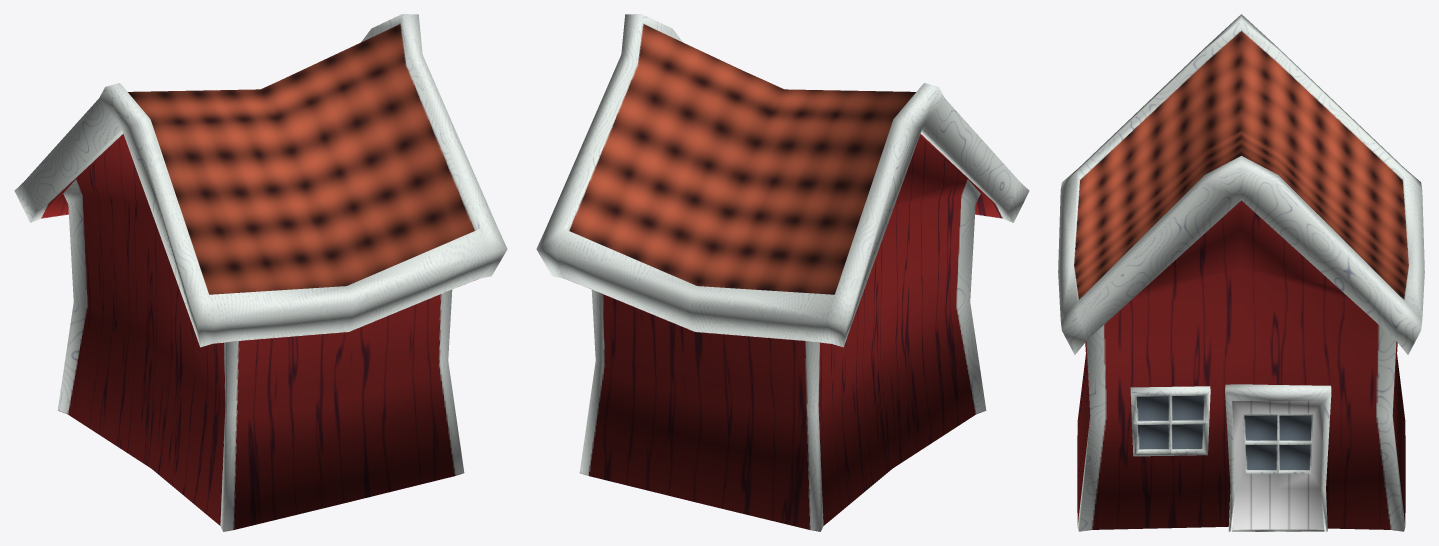
File: Boathouse.fbx
3 views of the same model, side by side, from view 1: azimuth 30°, elevation 25°; view 2: azimuth 150°, elevation 25°; view 3: azimuth 270°, elevation 25° (orthographic).
Visible parts, largest first — view 1: Boathouse; view 2: Boathouse; view 3: Boathouse.
Boxes of the visible parts, <box> form: Boathouse: <box>14,14,507,531</box>; Boathouse: <box>536,14,1029,531</box>; Boathouse: <box>1058,14,1424,531</box>.
Bounding box in the file's own units: 476 × 570 × 491.
